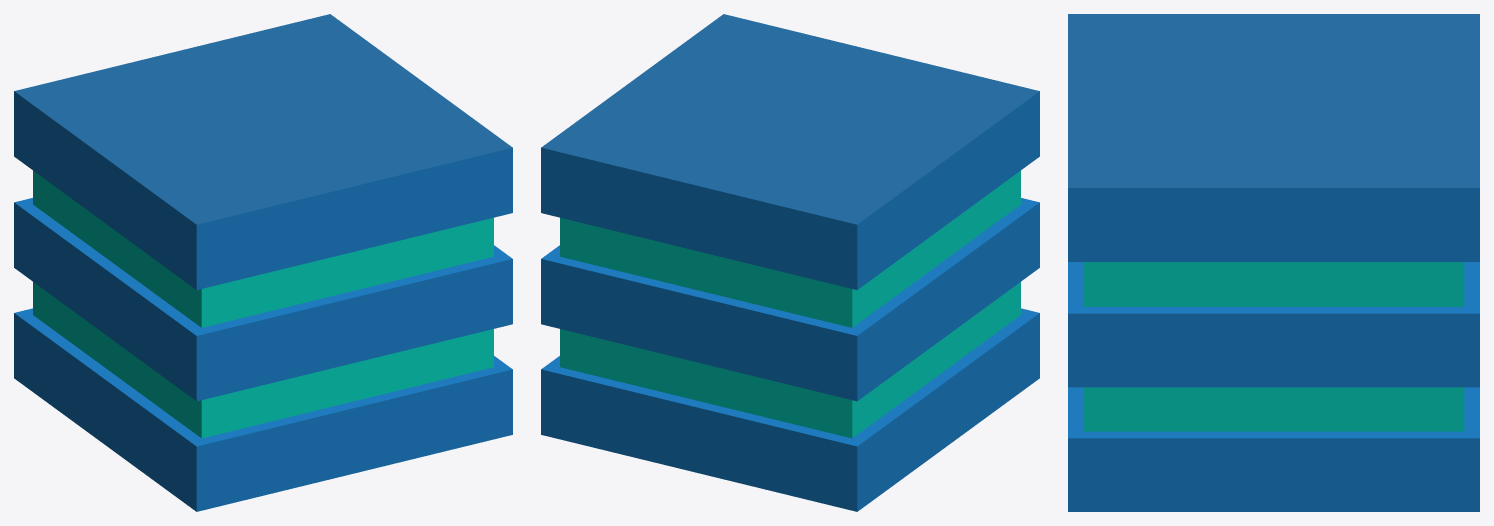
Rendered from server.gltf.
3 views of the same model, side by side, from view 1: azimuth 30°, elevation 25°; view 2: azimuth 150°, elevation 25°; view 3: azimuth 270°, elevation 25° (orthographic). The views are drawn at different scales.
Parts seen in each view (by area): view 1: 对象398, Box263, Box261, Box265, Box264, Box262; view 2: 对象398, Box263, Box261, Box265, Box264, Box262; view 3: 对象398, Box263, Box261, Box265, Box262, Box264.
Boxes of the visible parts, x1=… form: 对象398: x1=14, y1=14, x2=512, y2=224; Box263: x1=14, y1=198, x2=512, y2=401; Box261: x1=14, y1=308, x2=512, y2=511; Box265: x1=14, y1=91, x2=512, y2=289; Box264: x1=33, y1=170, x2=493, y2=327; Box262: x1=33, y1=282, x2=493, y2=438; 对象398: x1=541, y1=14, x2=1039, y2=224; Box263: x1=541, y1=198, x2=1039, y2=401; Box261: x1=541, y1=308, x2=1039, y2=511; Box265: x1=541, y1=91, x2=1039, y2=289; Box264: x1=560, y1=170, x2=1020, y2=327; Box262: x1=560, y1=282, x2=1020, y2=438; 对象398: x1=1068, y1=14, x2=1479, y2=187; Box263: x1=1068, y1=262, x2=1479, y2=387; Box261: x1=1068, y1=387, x2=1479, y2=511; Box265: x1=1068, y1=188, x2=1479, y2=261; Box262: x1=1083, y1=387, x2=1464, y2=431; Box264: x1=1083, y1=262, x2=1464, y2=306.
Size of the model in its own units: 0.48 by 0.4167 by 0.48.
